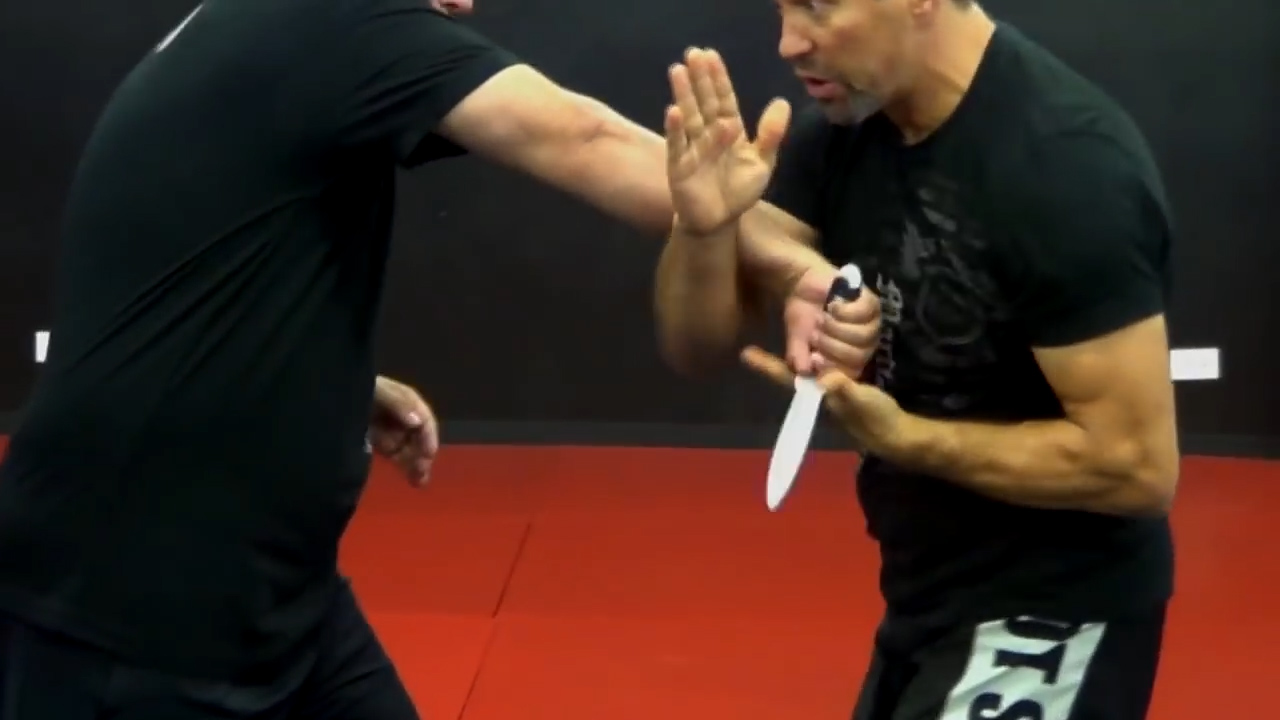knife: (757, 258, 886, 524)
